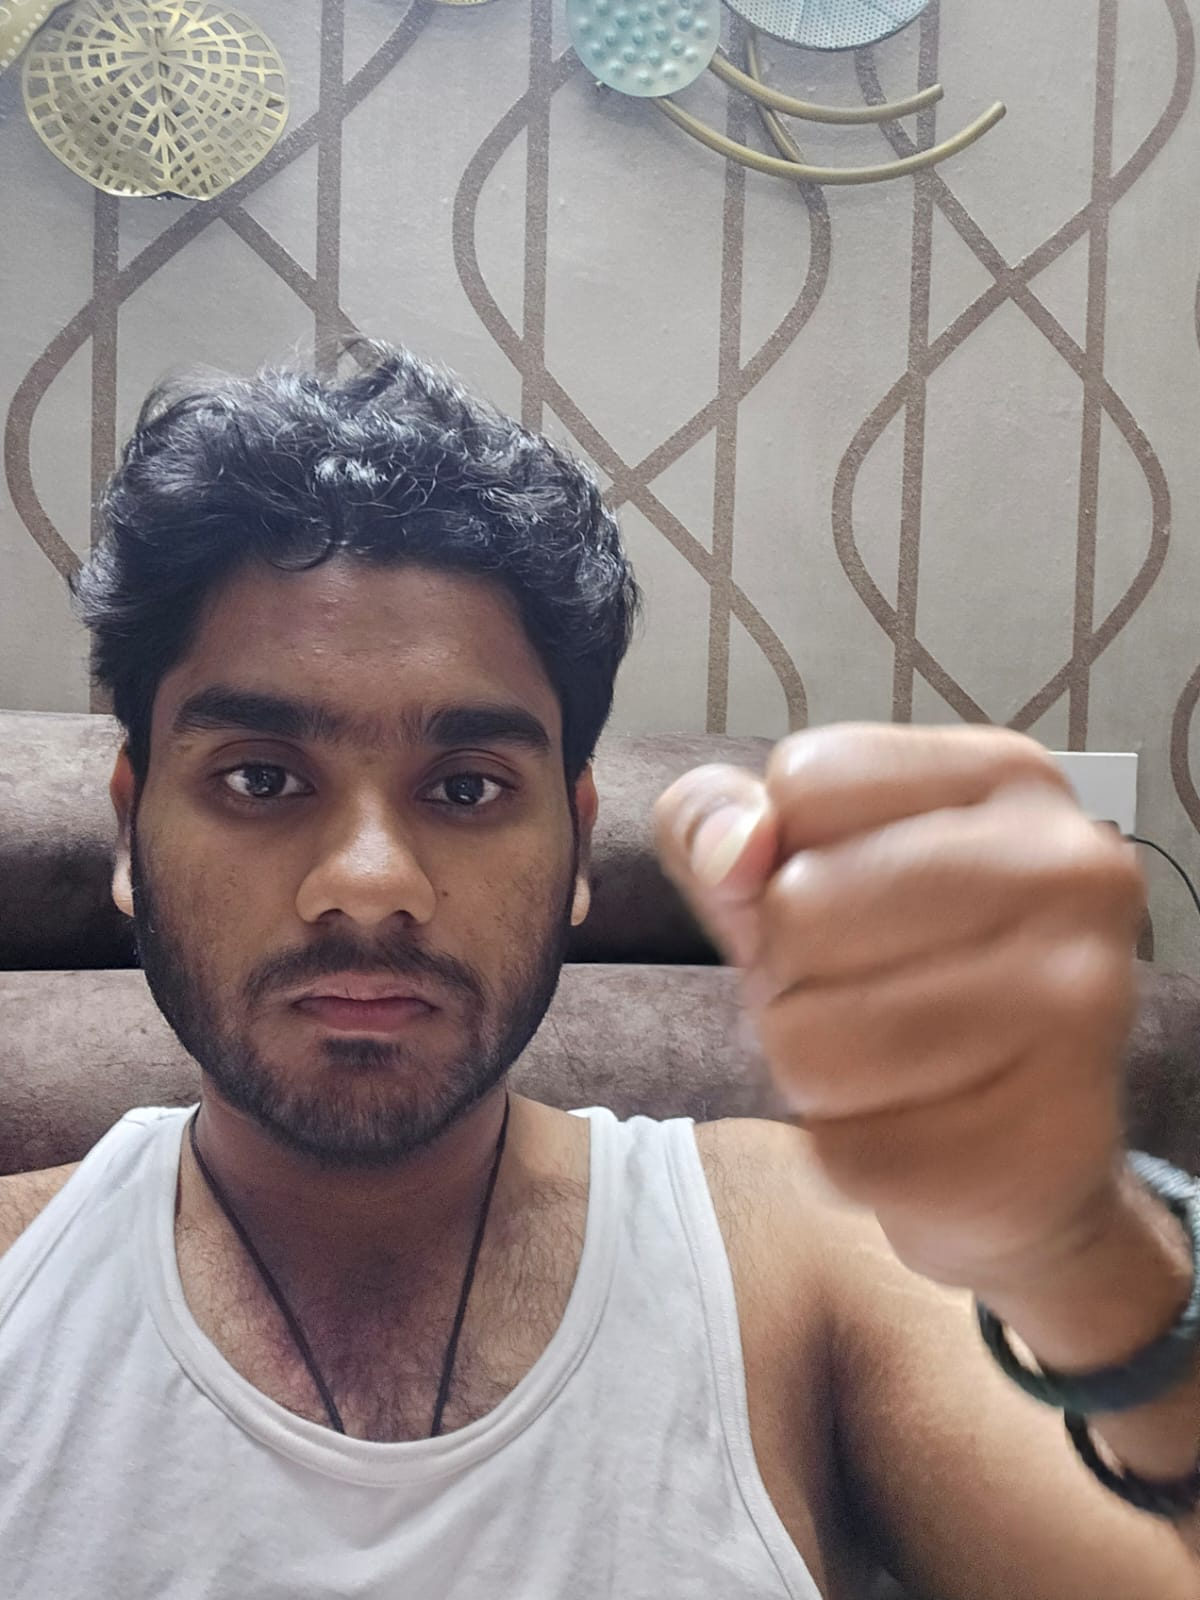yes: (649, 719, 1150, 1289)
